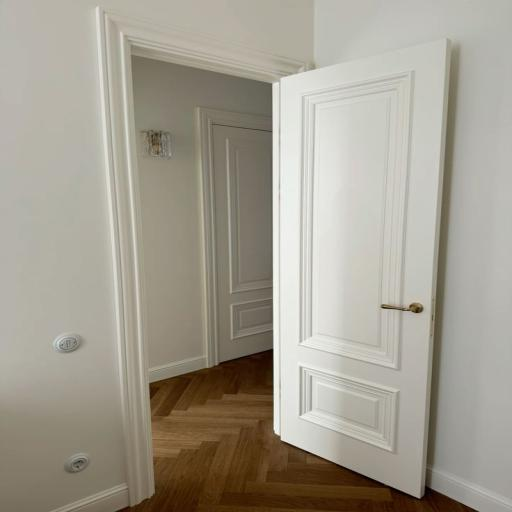corridor: (281, 42, 447, 495), (211, 125, 273, 361)
